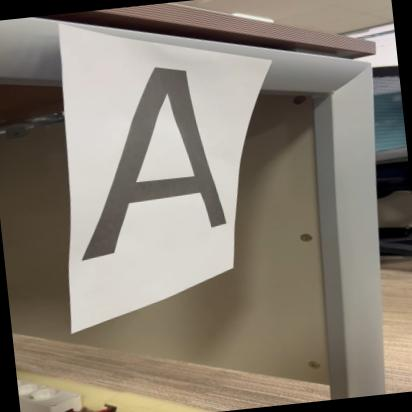seat: (47, 56, 251, 266)
